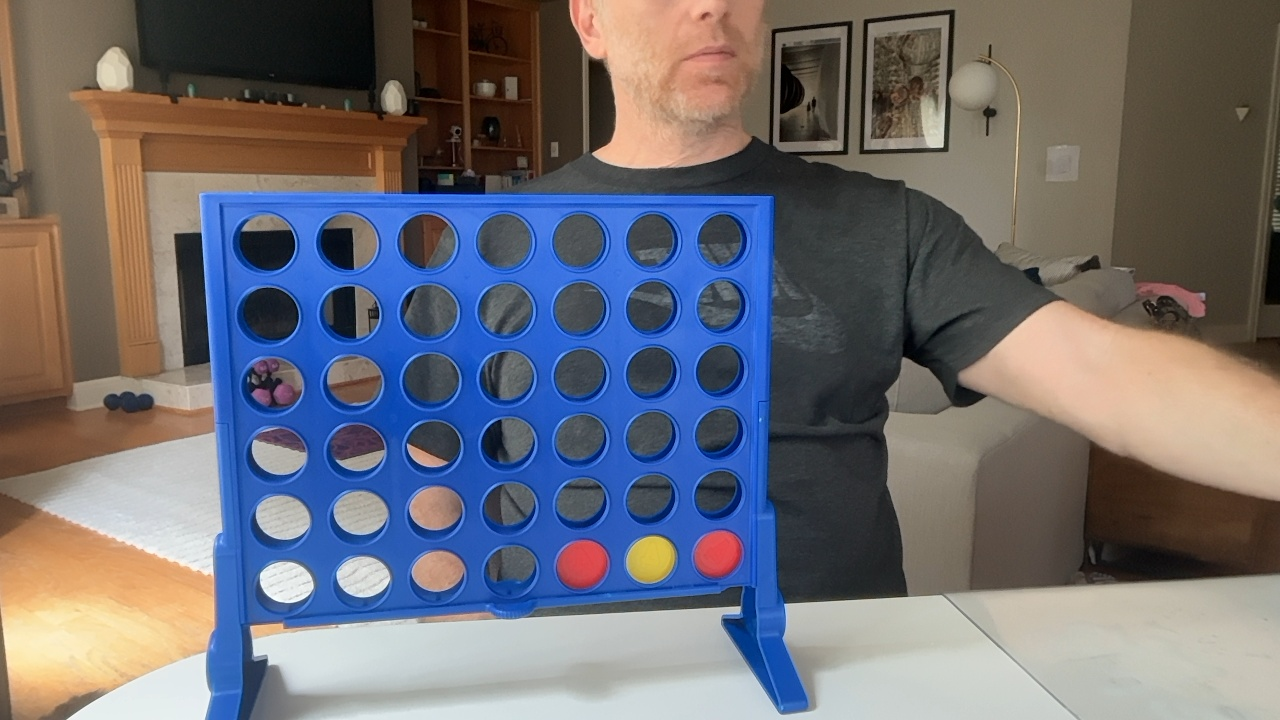red piece: (556, 540, 608, 590), (694, 530, 743, 579)
yellow piece: (626, 535, 675, 583)
